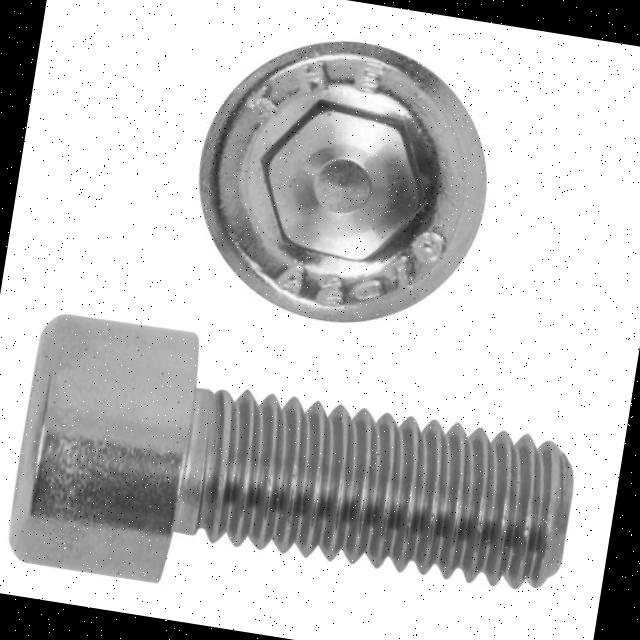Hex Socket Allen: (180, 21, 504, 340)
